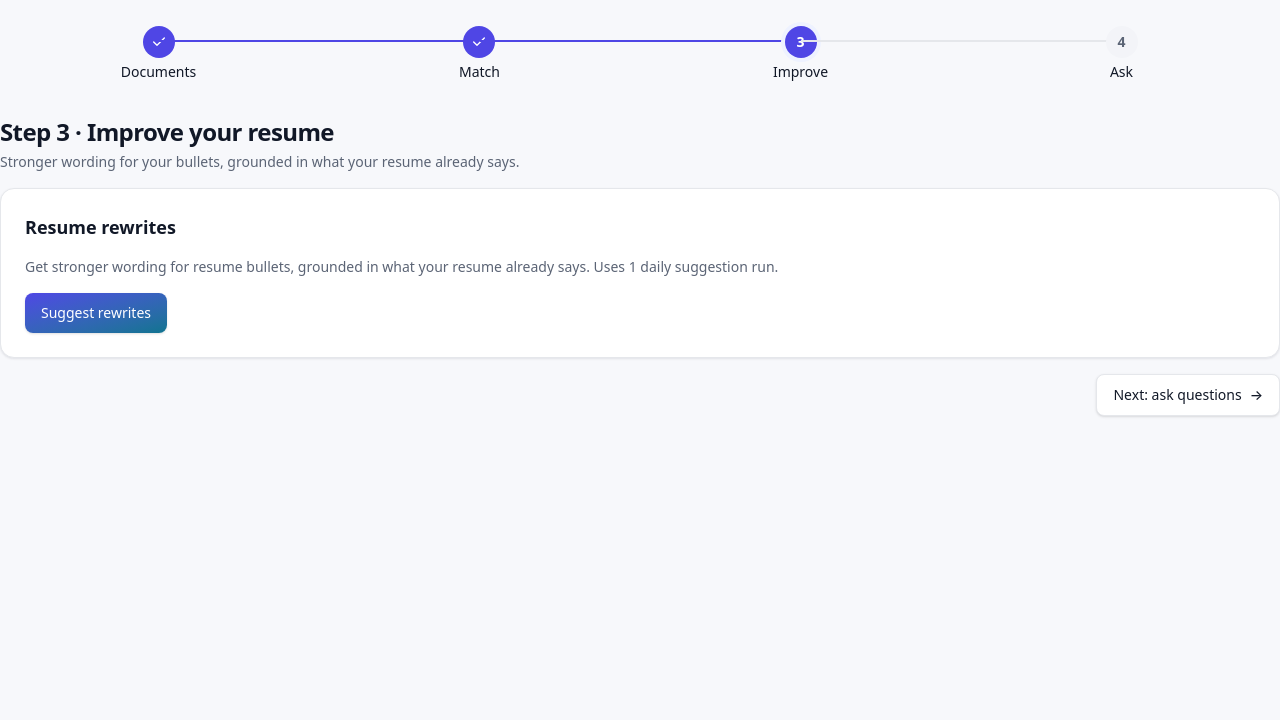
Scenario: Workspace › keeps the chat history when switching between steps
Click the button "4 Ask" at (1122, 54), box x1=1102 y1=24 x2=1142 y2=84
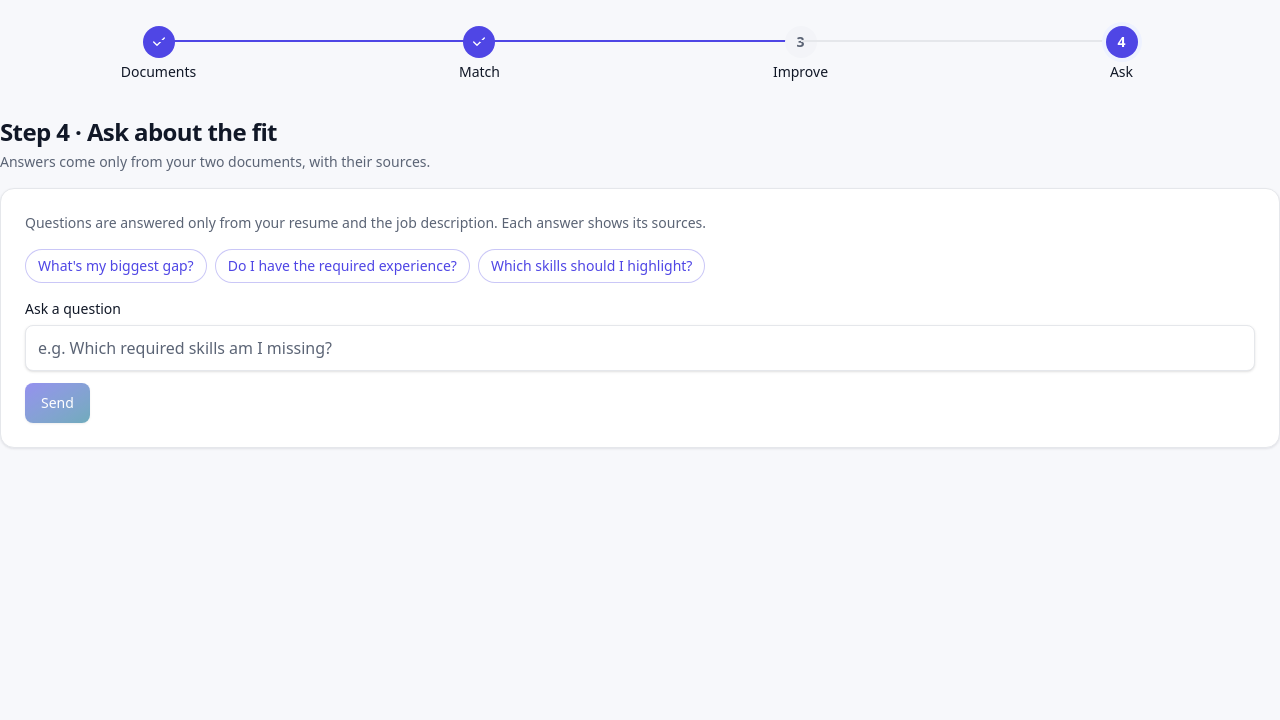
Click the button "What's my biggest gap?" at (116, 266), box x1=25 y1=249 x2=207 y2=283
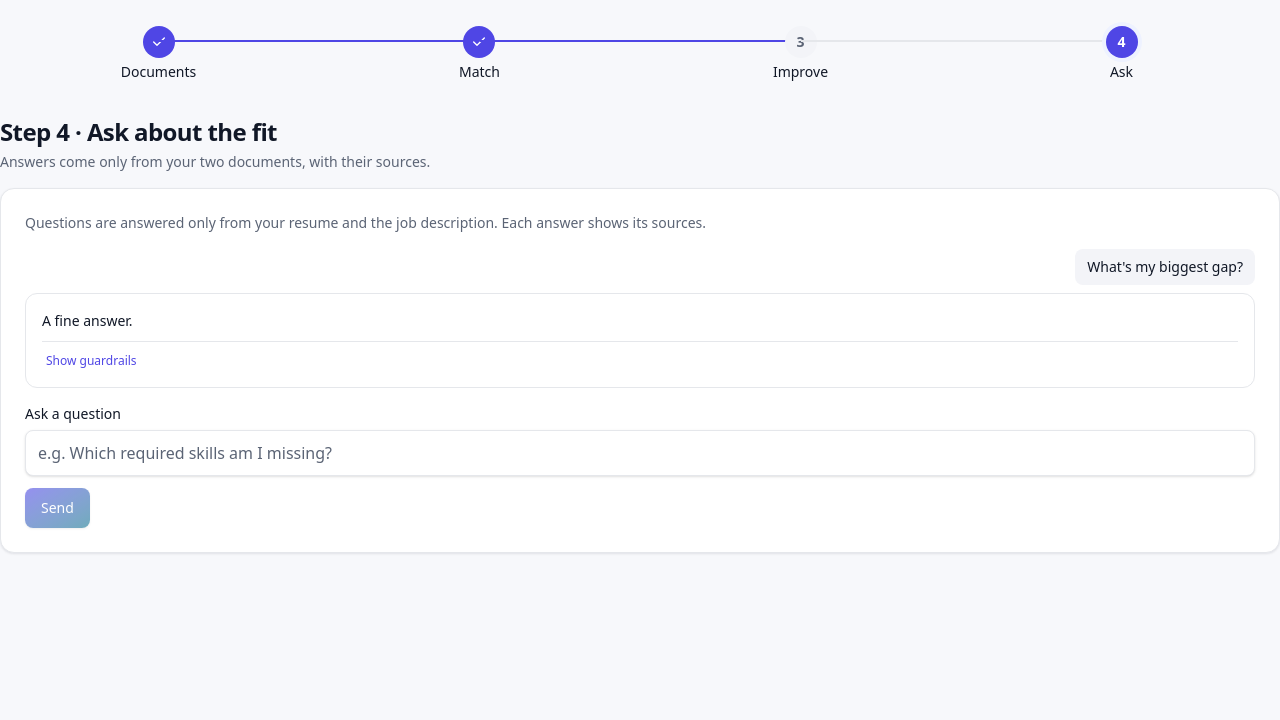
Result: the text "A fine answer." is shown at x1=42 y1=311 x2=133 y2=330
Click the button "Match" at (480, 54), box x1=455 y1=24 x2=504 y2=84
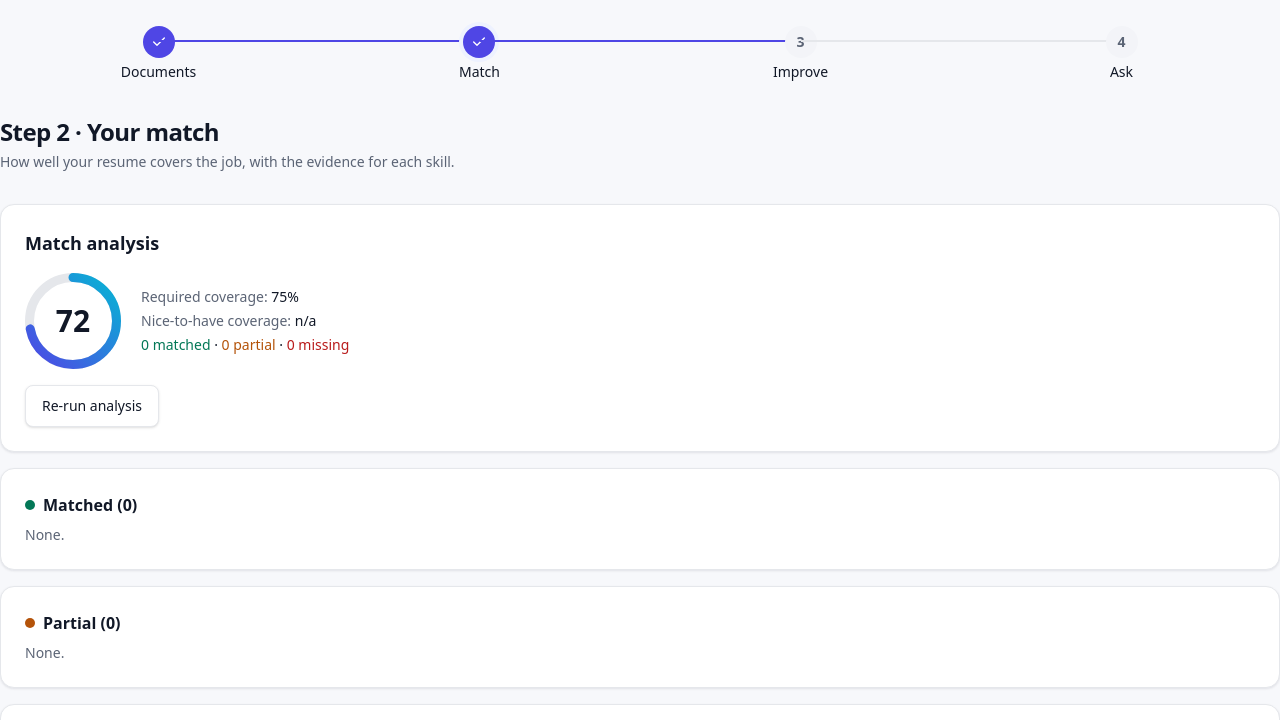
Click the button "4 Ask" at (1122, 54), box x1=1102 y1=24 x2=1142 y2=84
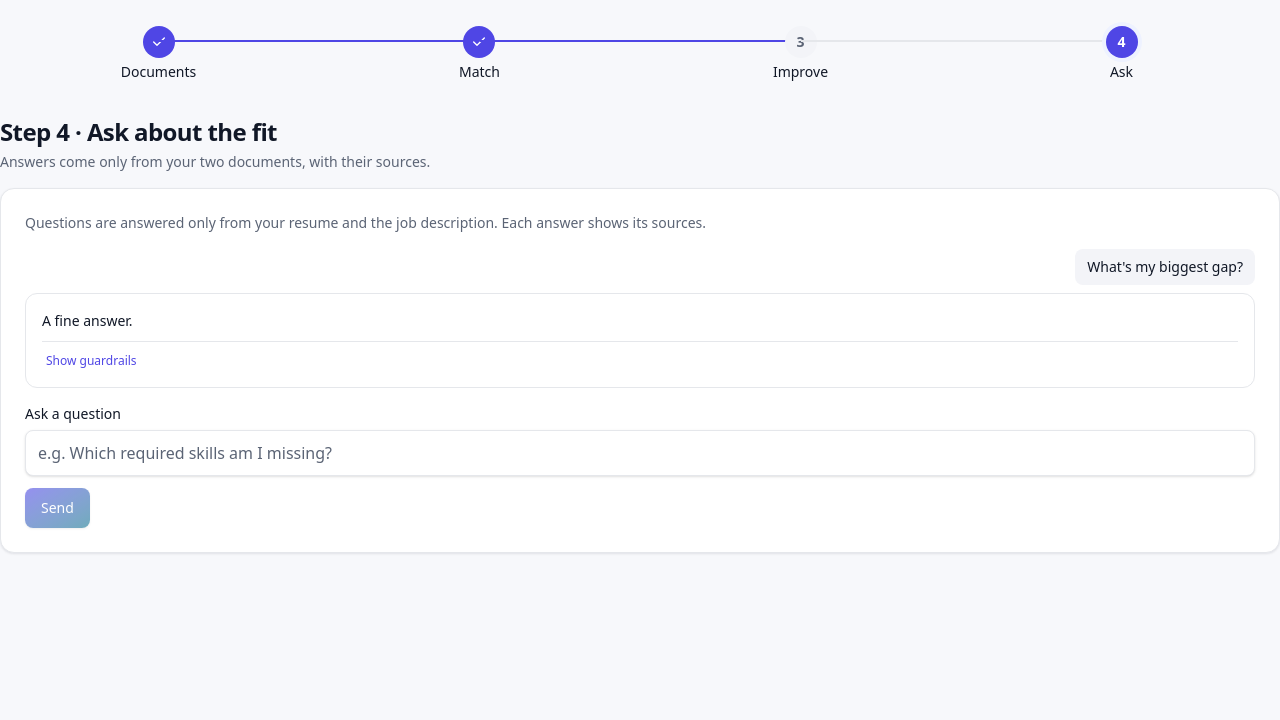
Result: the text "A fine answer." is shown at x1=42 y1=311 x2=133 y2=330
